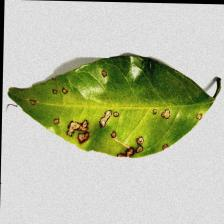canker: (17, 83, 172, 175)
